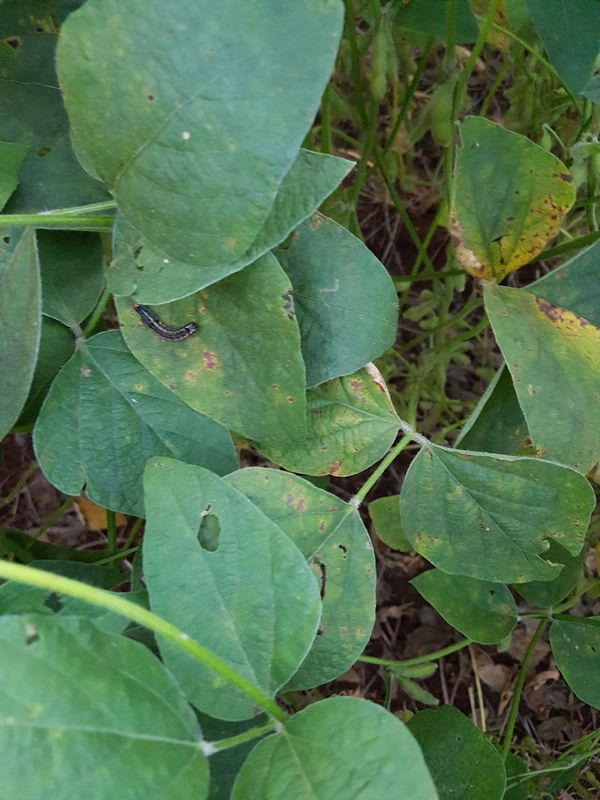Spodoptera_albula: (123, 293, 204, 351)
